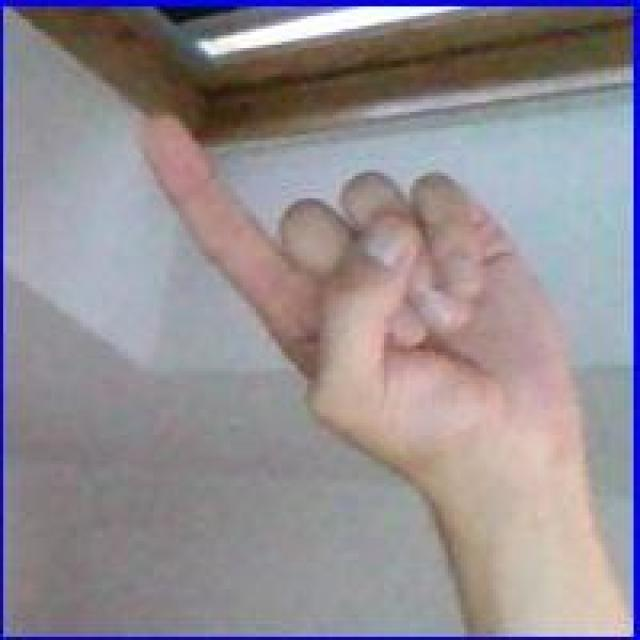Z: (136, 96, 536, 502)
